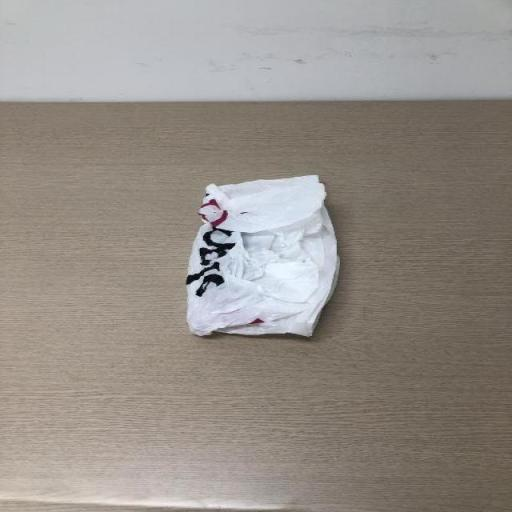plastic-bag: (188, 170, 343, 338)
